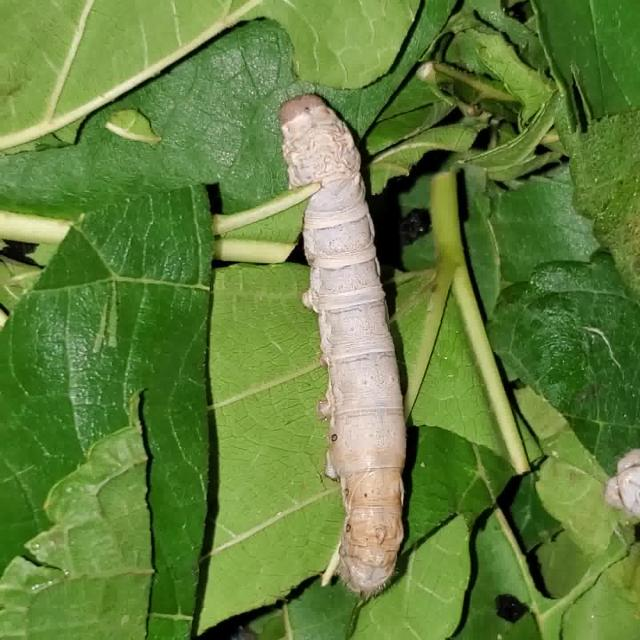Grasserie: (256, 79, 438, 615)
